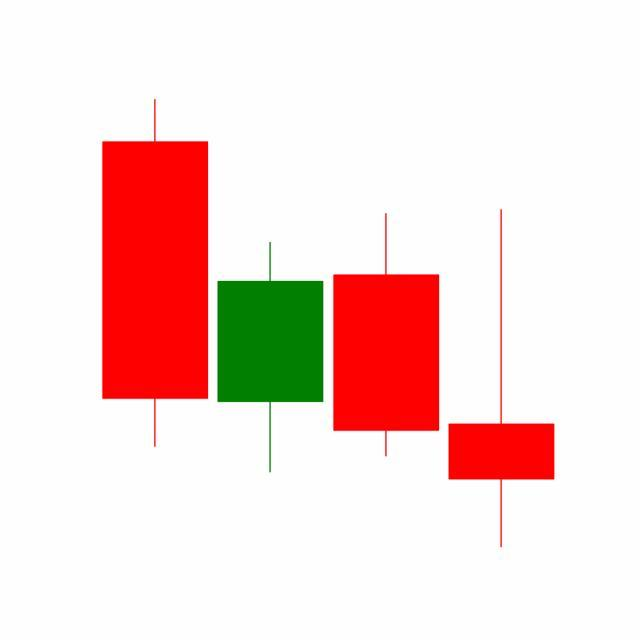Three Outside Up-Down: (211, 206, 555, 549)
